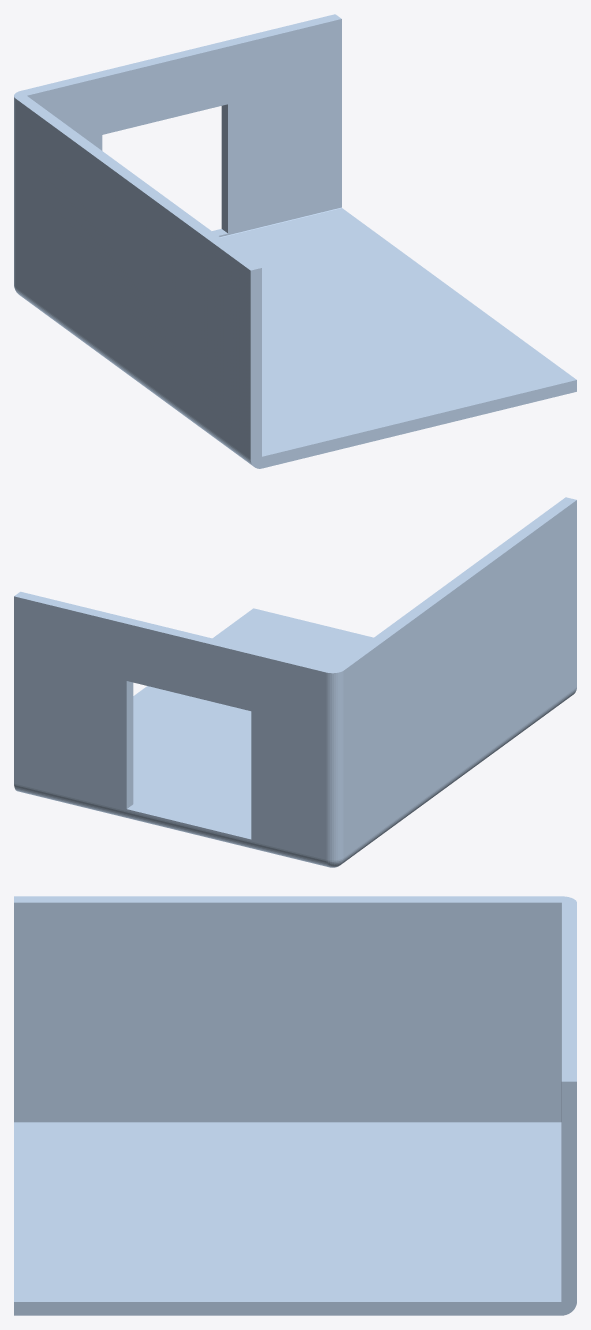
File: Paredes.glb
The picture shows the model from 3 angles, top to bottom: view 1: azimuth 30°, elevation 25°; view 2: azimuth 150°, elevation 25°; view 3: azimuth 270°, elevation 25°; orthographic projection. The views are drawn at different scales.
Visible parts, largest first — view 1: Habitacion_Paredes; view 2: Habitacion_Paredes; view 3: Habitacion_Paredes.
Boxes of the visible parts, bbox=[...] form: Habitacion_Paredes: bbox=[14, 14, 576, 468]; Habitacion_Paredes: bbox=[14, 497, 576, 867]; Habitacion_Paredes: bbox=[14, 896, 576, 1315].
Bounding box in the file's own units: 7.23 × 4.25 × 9.27.
